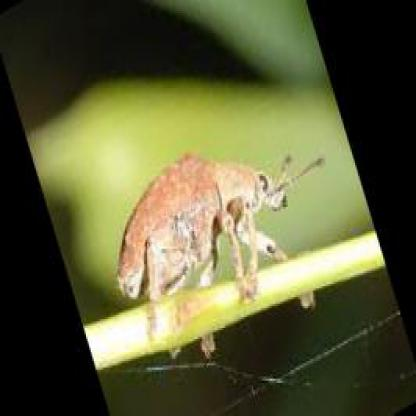ash weevil: (116, 150, 324, 306)
